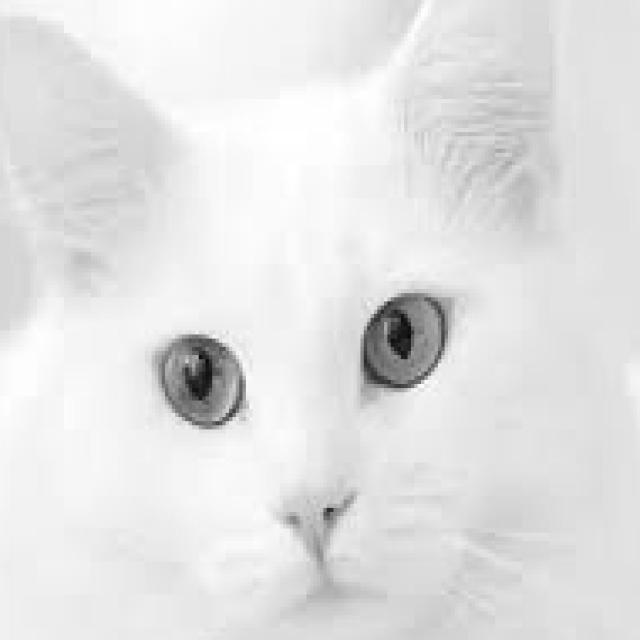van: (0, 0, 559, 636)
